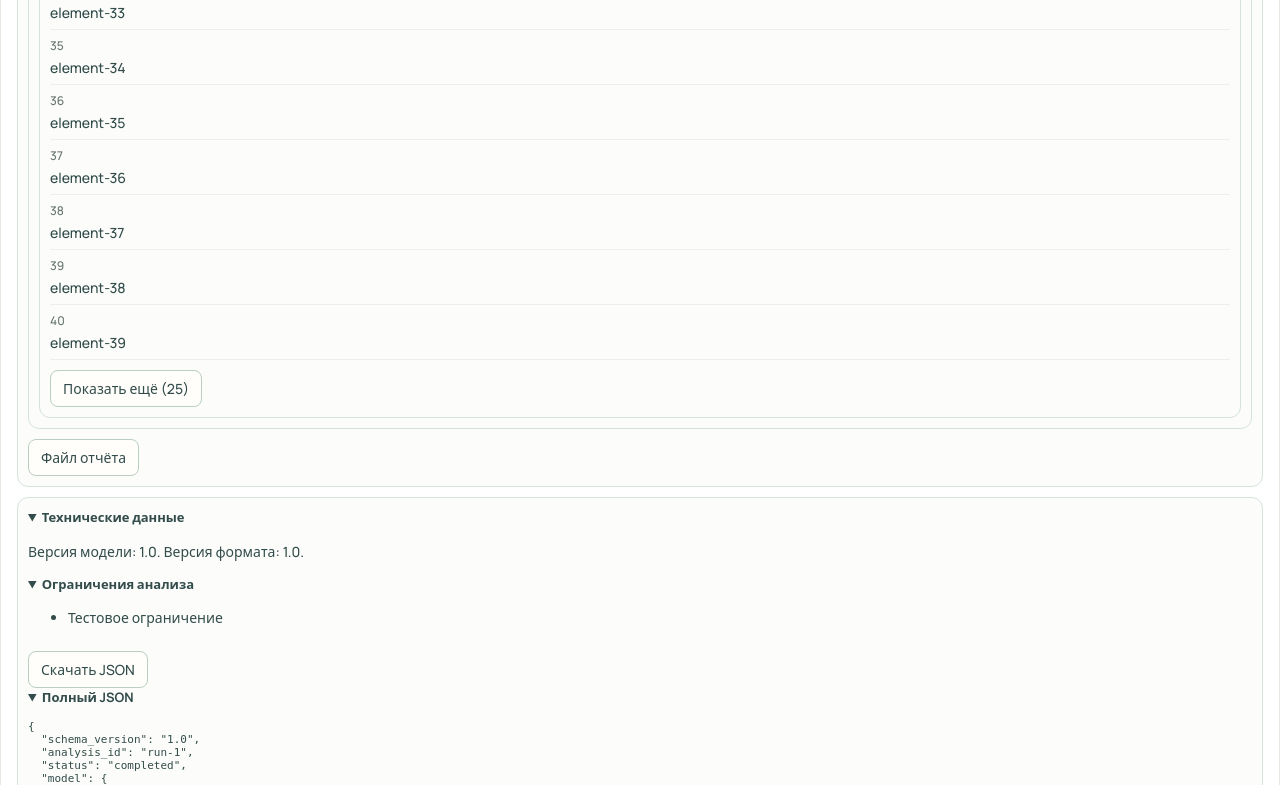
renders typed values, tables, unknown types and all list pages
The image size is (1280, 785).
(page scrolled)
Expected: the text "element-64" is not shown
Click the button "Показать ещё (25)" at (126, 389), box [50, 370, 202, 407]
(page scrolled)
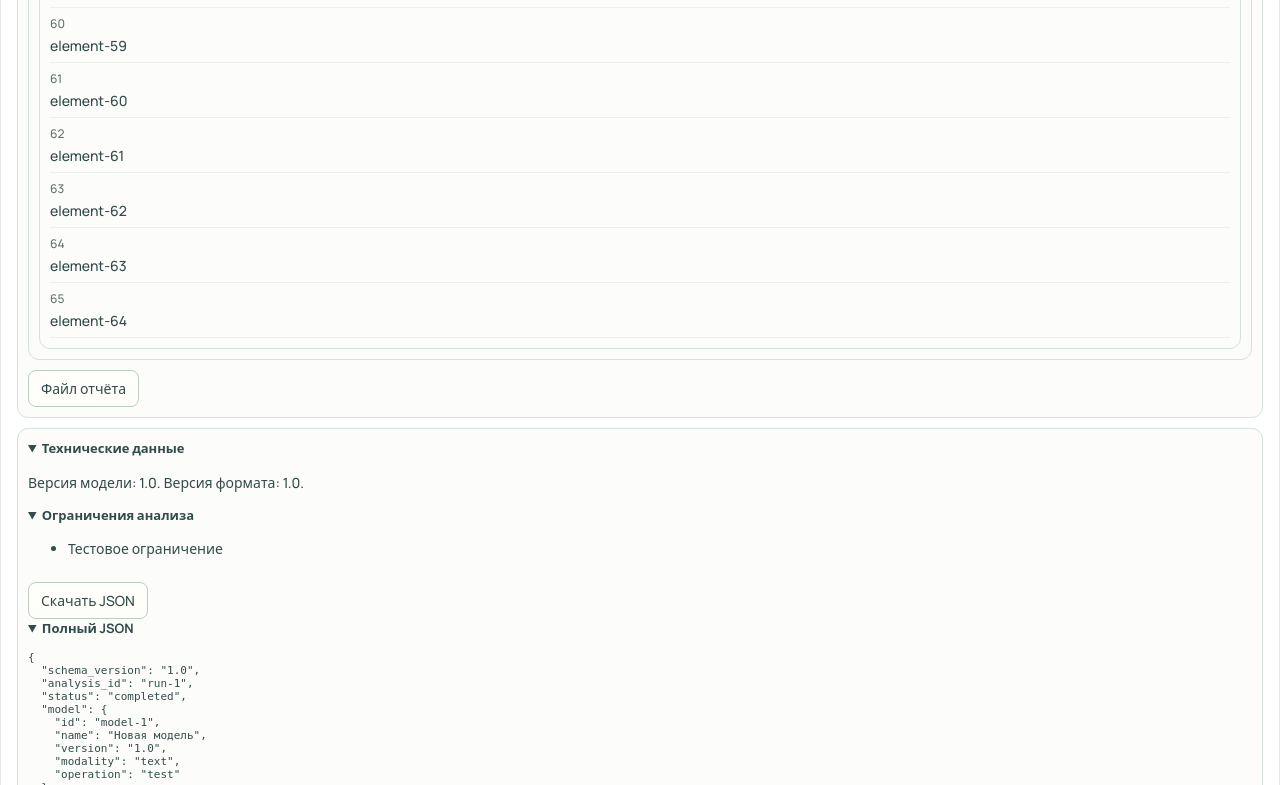
Expected: the button "Файл отчёта" is shown, [28, 370, 139, 407]
Expected: the text "element-64" is shown, [50, 311, 127, 330]
